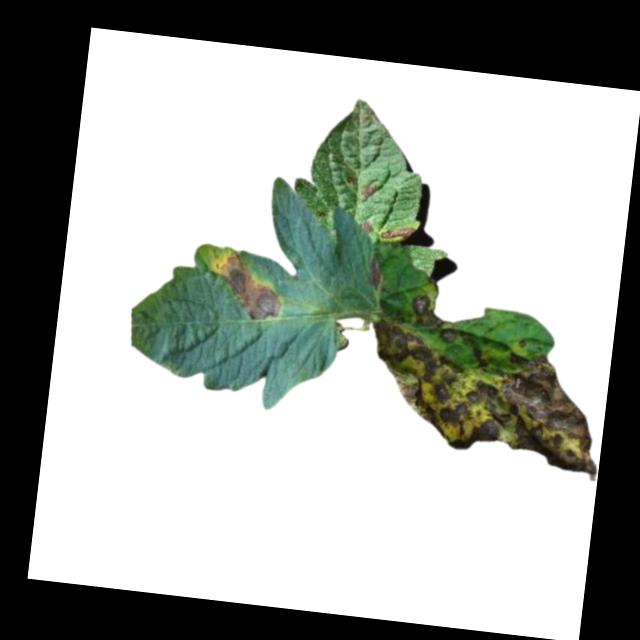Early_blight: (357, 321, 608, 480), (208, 247, 291, 325), (409, 291, 459, 331), (379, 223, 418, 241), (365, 257, 386, 288), (358, 177, 380, 198), (359, 221, 375, 234)
